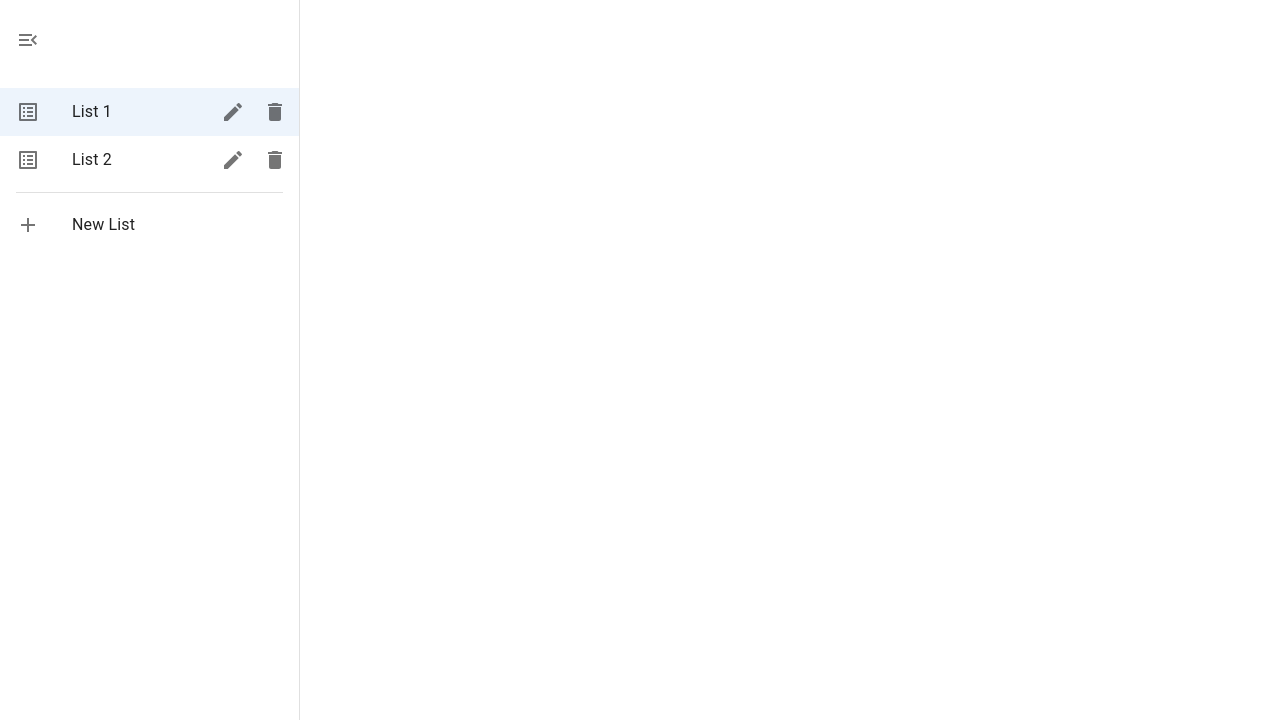
it: ListBar Component › opens TodoListForm when new list btn is clicked
Click the button "New List": (76, 225) x1=16 y1=213 x2=135 y2=237
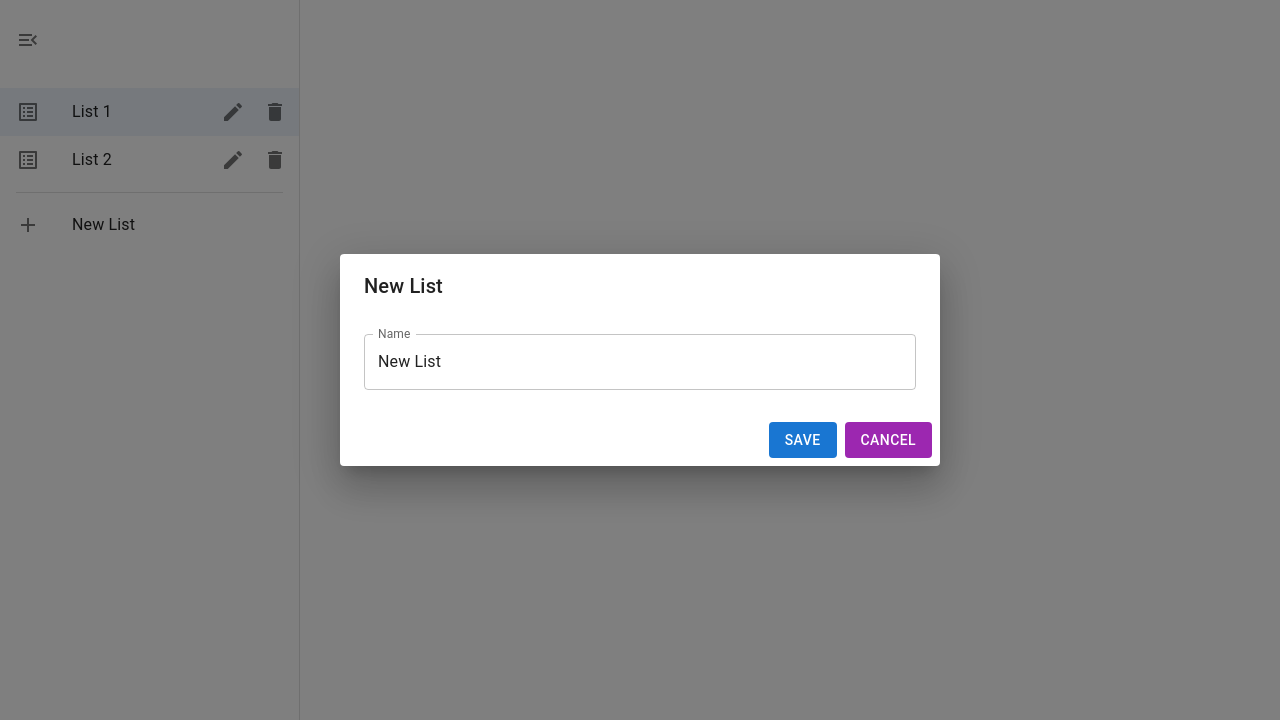
Expected: the element with test id "todo-list-form" is shown
